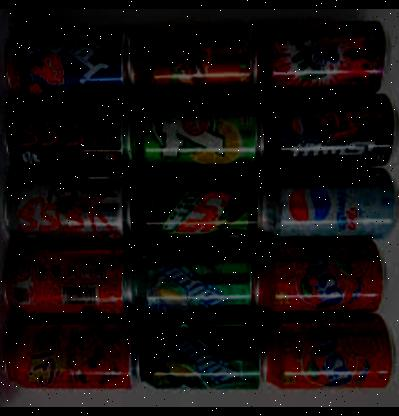Can: (262, 95, 392, 170), (1, 170, 128, 245), (2, 320, 140, 389), (256, 172, 392, 242), (126, 100, 260, 171), (0, 247, 130, 320), (260, 316, 388, 390), (254, 22, 384, 92), (128, 246, 251, 318), (253, 244, 378, 313), (132, 172, 253, 242), (136, 320, 255, 390), (128, 28, 251, 95), (5, 102, 124, 169), (5, 32, 124, 97)
